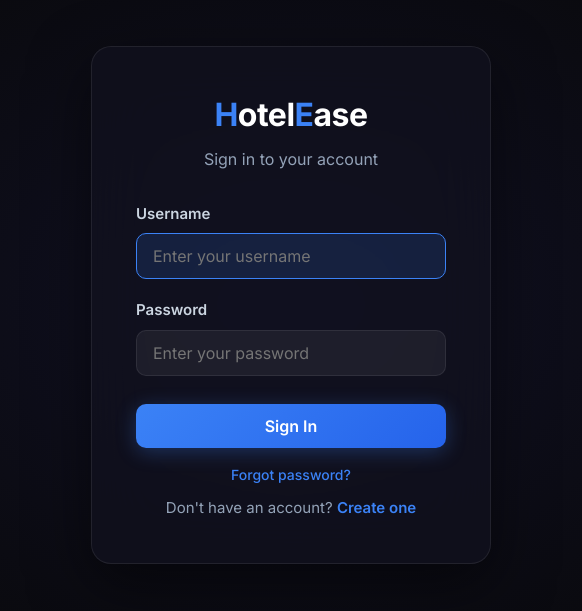
Scenario: Login › shows error message when login fails
The image size is (582, 611).
Type "admin" into the field with placeholder "Enter your username" at (291, 256), box [136,233,446,279]
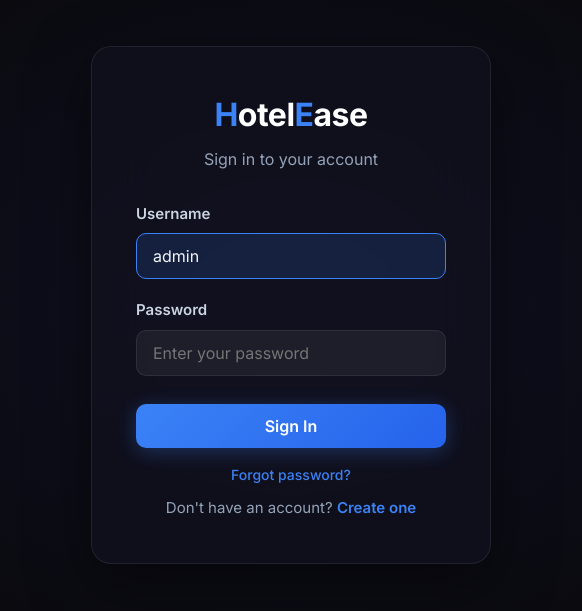
Type "wrong" into the password field with placeholder "Enter your password" at (291, 353), box [136,330,446,376]
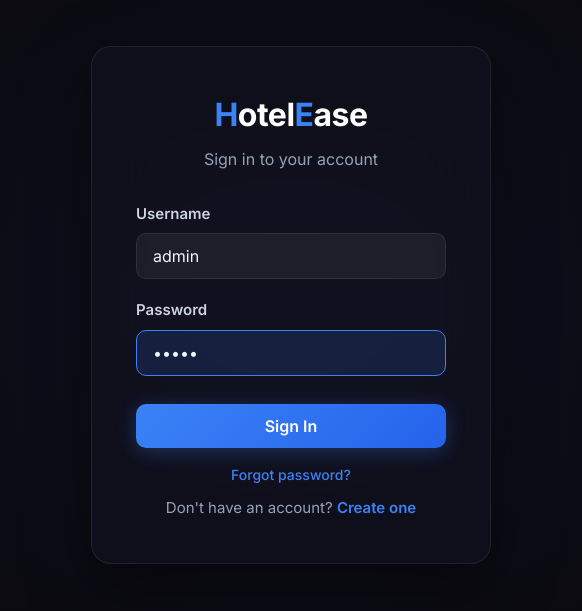
Click the button "Sign In" at (291, 426), box [136,404,446,448]
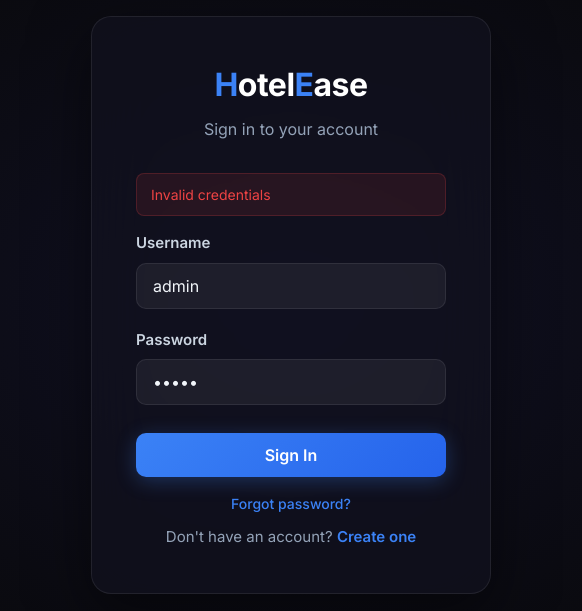
Check: the text "Invalid credentials" is shown, box [136,173,446,216]
